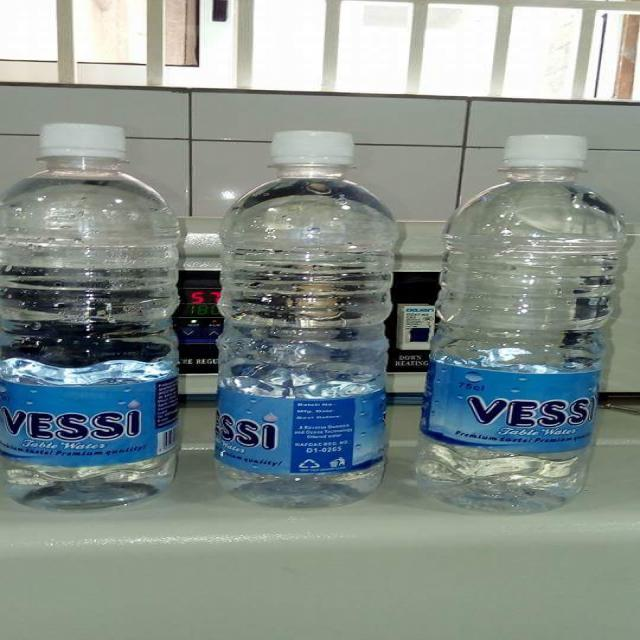plastic_bottle: (416, 134, 627, 515), (0, 123, 181, 512), (215, 132, 398, 510)
